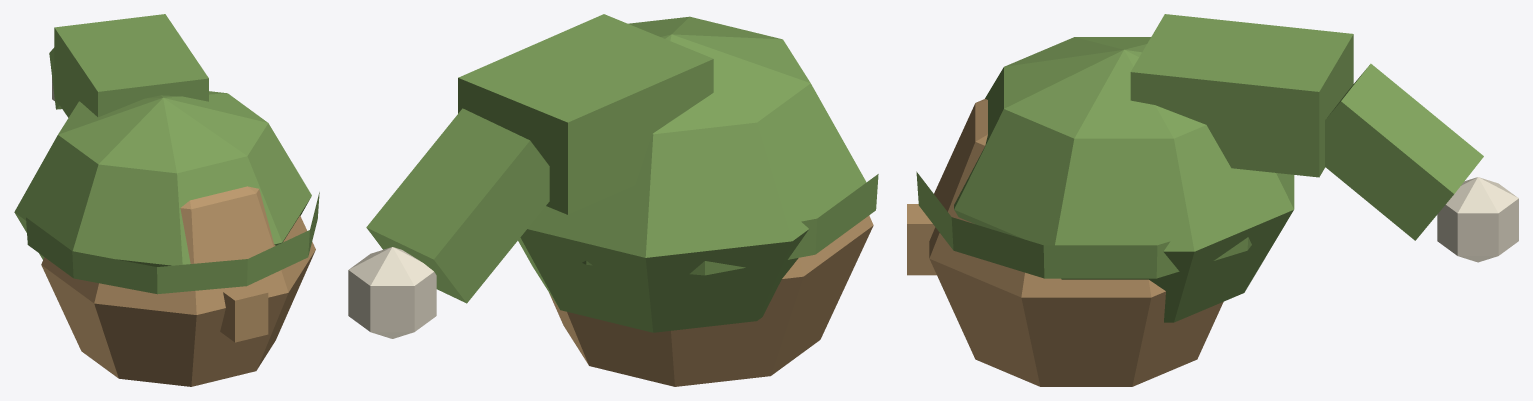
Rendered from villager-head-stocking.glb.
The picture shows the model from 3 angles, left to right: view 1: azimuth 30°, elevation 25°; view 2: azimuth 150°, elevation 25°; view 3: azimuth 270°, elevation 25°; orthographic projection. The views are drawn at different scales.
Visible parts, largest first — view 1: head; view 2: head; view 3: head.
Part boxes in pixels (<box>): head: <box>14,14,319,386</box>; head: <box>348,14,878,386</box>; head: <box>907,14,1518,386</box>.
Size of the model in its own units: 0.7418 by 0.8 by 1.3.
1 material, 1 textured.
